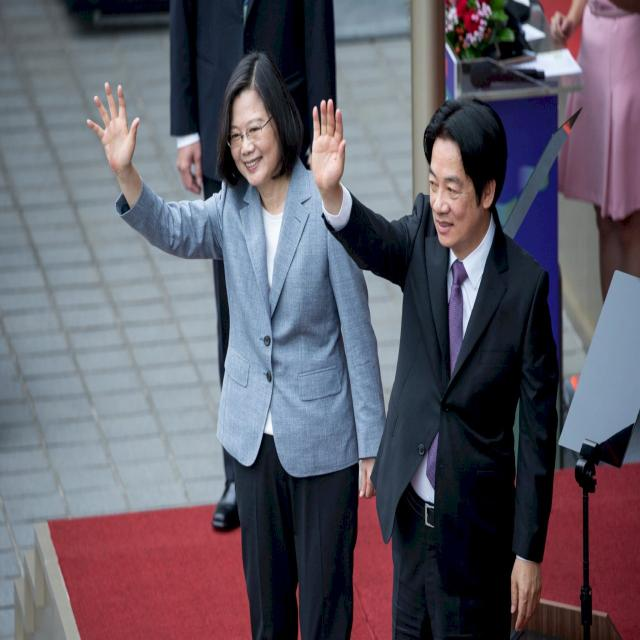stand: (196, 38, 360, 640), (378, 87, 547, 640)
